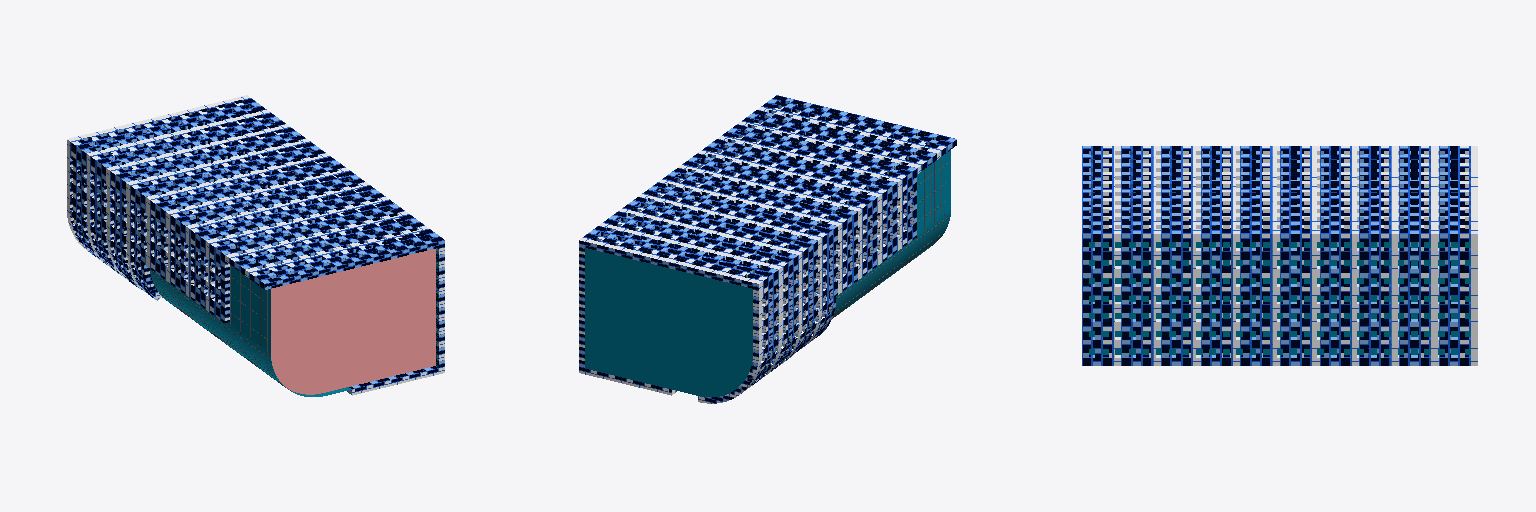
The picture shows the model from 3 angles: view 1: azimuth 30°, elevation 25°; view 2: azimuth 150°, elevation 25°; view 3: azimuth 270°, elevation 25°; orthographic projection.
Parts seen in each view (by area): view 1: wall_01, slab_01, glass_01, frame_01; view 2: wall_01, glass_01, frame_01; view 3: wall_01, glass_01.
Boxes of the visible parts, x1,y1,x2,y2 form: wall_01: [67, 95, 444, 395]; slab_01: [271, 249, 435, 394]; glass_01: [150, 248, 438, 396]; frame_01: [150, 265, 347, 394]; wall_01: [579, 95, 956, 403]; glass_01: [585, 150, 950, 396]; frame_01: [832, 157, 947, 318]; wall_01: [1082, 146, 1477, 365]; glass_01: [1089, 242, 1470, 354].
Bounding box in the file's own units: 1860 × 1309 × 3540.
Materials: 4 (1 with a texture image).